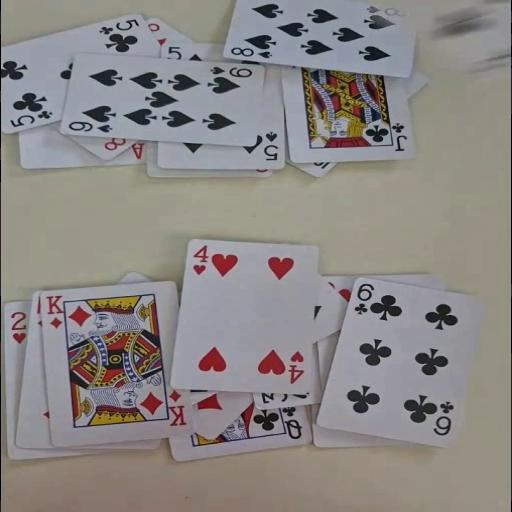2: (8, 309, 30, 345)
4: (286, 349, 306, 385), (190, 243, 210, 276)
5: (7, 109, 54, 128), (96, 16, 140, 36), (261, 130, 280, 161)
6: (430, 399, 455, 436), (351, 282, 376, 316)
8: (227, 46, 273, 60), (101, 135, 127, 152)
9: (208, 64, 254, 78), (65, 120, 112, 132)
J: (389, 121, 408, 151)
K: (164, 388, 188, 426), (44, 292, 65, 330)
